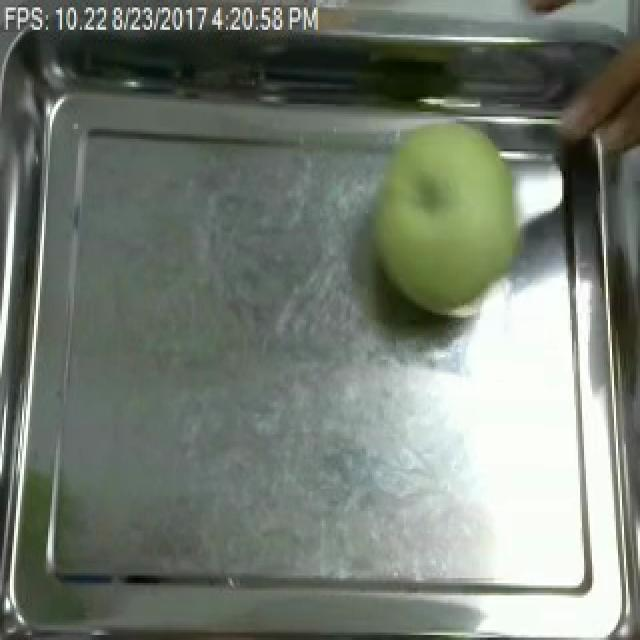50-_ripeness: (372, 112, 520, 321)
